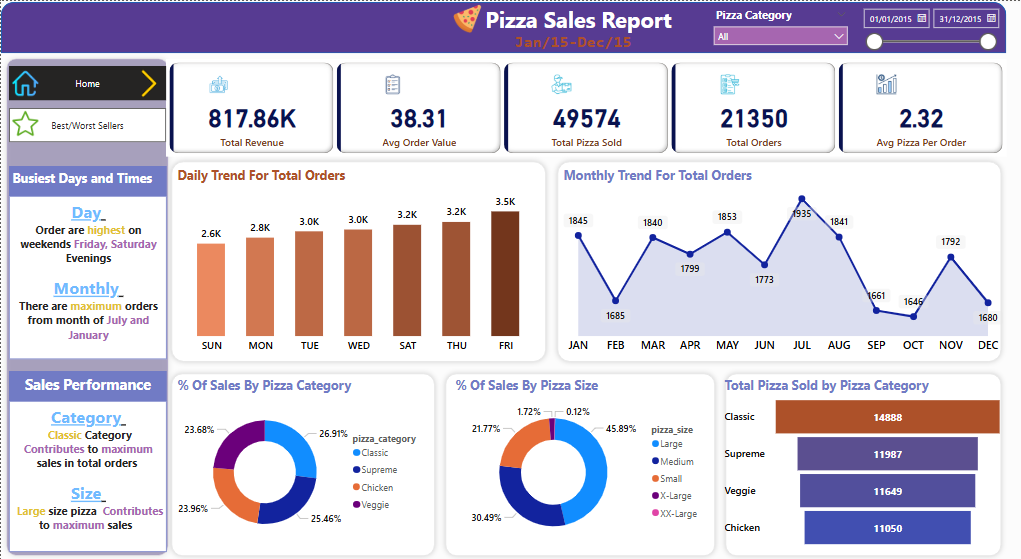

The dashboard page shown, as its layout file describes it:
{"tool":"powerbi","page":{"name":"Home","canvas":[1500,820],"ordinal":0},"visuals":[{"type":"shape","box":[0,75.8,253.2,743.5],"z":0},{"type":"cardVisual","fields":{"Data":["pizza_sales.Total Revenue","pizza_sales.Avg Order Value","pizza_sales.Total Pizza Sold","pizza_sales.Total Orders","pizza_sales.Avg Pizza Per Order"]},"box":[241.5,84.6,1230.8,143.1],"z":1000},{"type":"shape","box":[0,1.5,1472.3,75.4],"z":2000},{"type":"textbox","box":[472.6,0,745.2,75.8],"z":3000},{"type":"textbox","box":[746.8,40.3,287.1,43.5],"z":4000},{"type":"image","box":[643.5,0,79,51.6],"z":5000},{"type":"shape","box":[241.5,227.7,564.6,309.2],"z":6000},{"type":"columnChart","title":"Daily Trend For Total Orders ","fields":{"Category":["pizza_sales.Order Day"],"Y":["pizza_sales.Total Orders"]},"box":[253.8,241.5,541.5,283.1],"z":7000},{"type":"shape","box":[806.2,227.7,666.2,309.2],"z":8000},{"type":"areaChart","title":"Monthly Trend For Total Orders ","fields":{"Category":["pizza_sales.Order Month"],"Y":["pizza_sales.Total Orders"]},"box":[818.5,241.5,653.8,283.1],"z":9000},{"type":"shape","box":[241.5,536.9,401.5,283.1],"z":10000},{"type":"shape","box":[1052.3,536.9,420,283.1],"z":11000},{"type":"shape","box":[643.1,536.9,410.8,283.1],"z":12000},{"type":"donutChart","title":"% Of Sales By Pizza Category","fields":{"Category":["pizza_sales.pizza_category"],"Y":["pizza_sales.Total Revenue"]},"box":[253.8,549.2,375.4,256.9],"z":13000},{"type":"donutChart","title":"% Of Sales By Pizza Size","fields":{"Y":["pizza_sales.Total Revenue"],"Category":["pizza_sales.pizza_size"]},"box":[660,549.2,376.9,256.9],"z":14000},{"type":"funnel","title":"Total Pizza Sold by Pizza Category","fields":{"Y":["pizza_sales.Total Pizza Sold"],"Category":["pizza_sales.pizza_category"]},"box":[1053.8,549.2,418.5,256.9],"z":15000},{"type":"textbox","box":[11.3,241.9,230.6,43.5],"z":16000},{"type":"textbox","box":[11.3,285.5,230.6,238.7],"z":17000},{"type":"textbox","box":[11.3,585.5,230.6,221],"z":18000},{"type":"textbox","box":[11.3,541.9,230.6,43.5],"z":19000},{"type":"slicer","fields":{"Values":["pizza_sales.pizza_category"]},"box":[1033.9,4.8,216.1,69.4],"z":20000},{"type":"slicer","fields":{"Values":["pizza_sales.order_date"]},"box":[1250,1.6,216.1,74.2],"z":21000},{"type":"pageNavigator","box":[11.3,95.2,230.6,50],"z":22000},{"type":"pageNavigator","box":[11.3,156.5,230.6,50],"z":23000},{"type":"image","box":[191.9,93.5,50,53.2],"z":24000},{"type":"image","box":[11.3,96.8,48.4,48.4],"z":25000},{"type":"image","box":[11.3,151.6,48.4,54.8],"z":26000}]}

Visuals, with their boxes in screenshot pixels (x1, y1, x2, y2), scaled from the page's 1500x820 canvas onto the 1021x559 screenshot:
shape: 0,52,172,558
cardVisual - pizza_sales.Total Revenue x pizza_sales.Avg Order Value: 164,58,1002,155
shape: 0,1,1002,52
textbox: 322,0,829,52
textbox: 508,27,704,57
image: 438,0,492,35
shape: 164,155,549,366
"Daily Trend For Total Orders " columnChart: 173,165,541,358
shape: 549,155,1002,366
"Monthly Trend For Total Orders " areaChart: 557,165,1002,358
shape: 164,366,438,558
shape: 716,366,1002,558
shape: 438,366,717,558
"% Of Sales By Pizza Category" donutChart: 173,374,428,550
"% Of Sales By Pizza Size" donutChart: 449,374,706,550
"Total Pizza Sold by Pizza Category" funnel: 717,374,1002,550
textbox: 8,165,165,195
textbox: 8,195,165,357
textbox: 8,399,165,550
textbox: 8,369,165,399
slicer - pizza_sales.pizza_category: 704,3,851,51
slicer - pizza_sales.order_date: 851,1,998,52
pageNavigator: 8,65,165,99
pageNavigator: 8,107,165,141
image: 131,64,165,100
image: 8,66,41,99
image: 8,103,41,141
